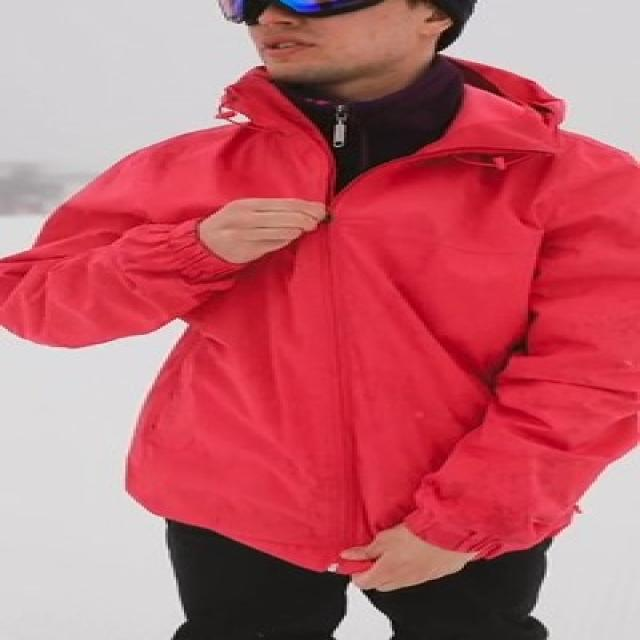Jacket_Wearer: (8, 78, 640, 575)
Person: (0, 0, 640, 640)
